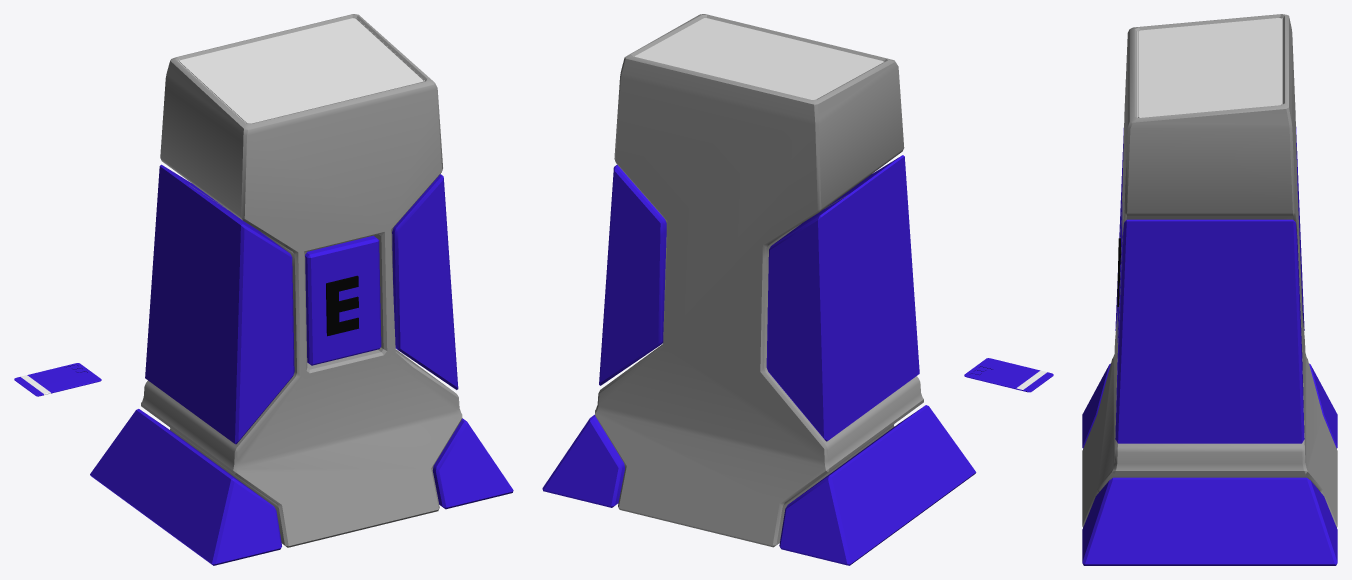
File: key_stuff(2).fbx
3 renders of one model, left to right at view 1: azimuth 30°, elevation 25°; view 2: azimuth 150°, elevation 25°; view 3: azimuth 270°, elevation 25°, orthographic. The views are drawn at different scales.
Visible parts, largest first — view 1: Cube.001, Plane.001, Cube.002; view 2: Cube.001, Plane.001, Cube.002; view 3: Cube.001, Plane.001.
Part boxes in pixels (x1,y1,x2,y2): Cube.001: (90, 14, 513, 565); Plane.001: (178, 18, 424, 123); Cube.002: (14, 363, 101, 396); Cube.001: (542, 14, 976, 565); Plane.001: (633, 18, 884, 99); Cube.002: (964, 358, 1053, 392); Cube.001: (1082, 14, 1337, 565); Plane.001: (1137, 18, 1282, 117).
Size of the model in its own units: 126 by 119 by 63.93.
